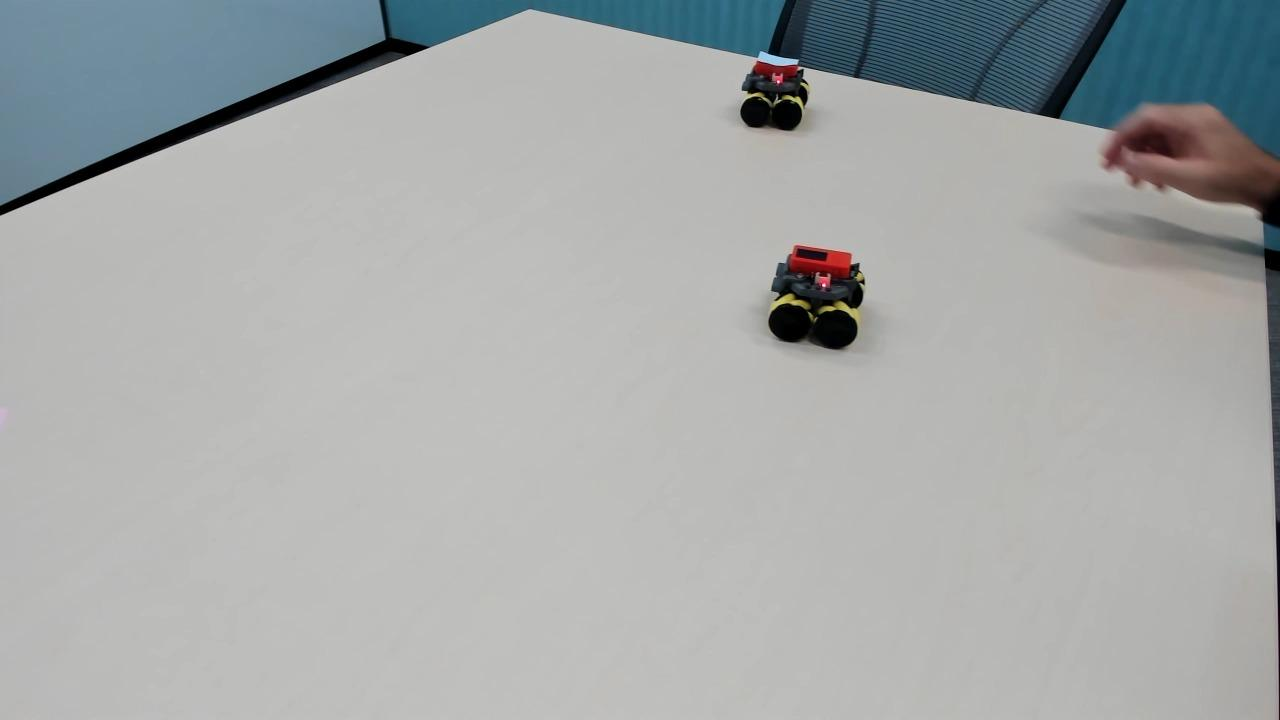B-Robot: (739, 36, 820, 140)
R-Robot: (766, 228, 871, 374)
